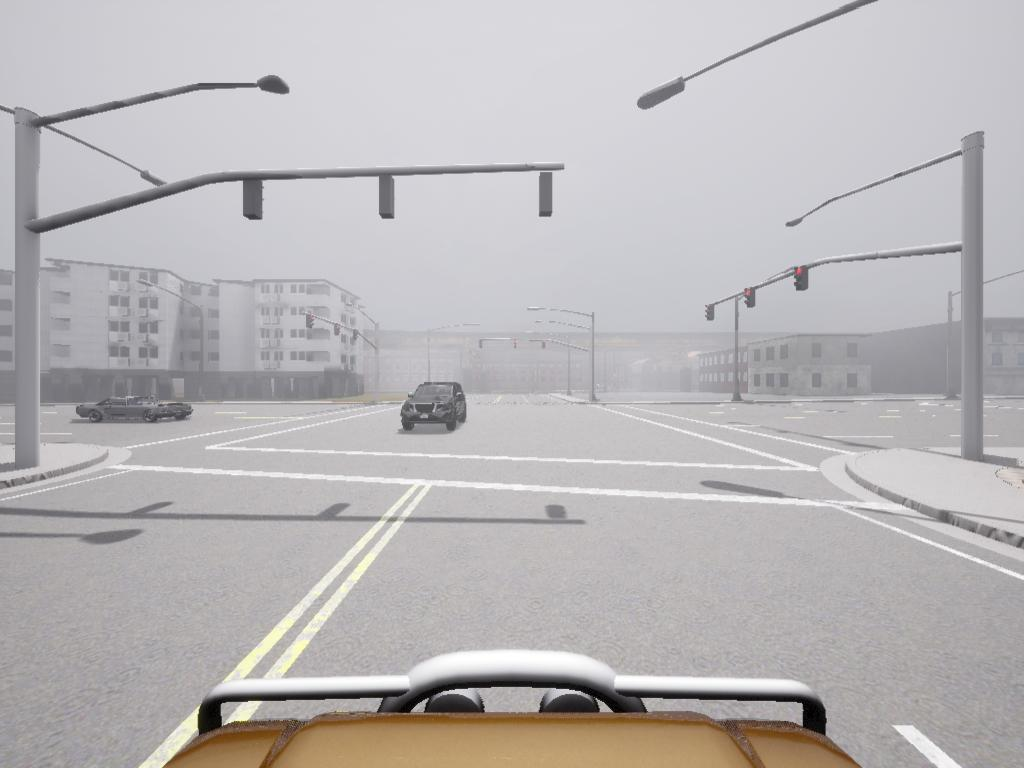traffic_light: (244, 178, 268, 222), (377, 177, 398, 220), (539, 171, 557, 217), (798, 268, 812, 293), (747, 287, 758, 308), (306, 312, 316, 333), (706, 307, 716, 323), (353, 327, 360, 348), (334, 323, 342, 341), (543, 343, 548, 354), (480, 340, 485, 349), (515, 340, 519, 351)
